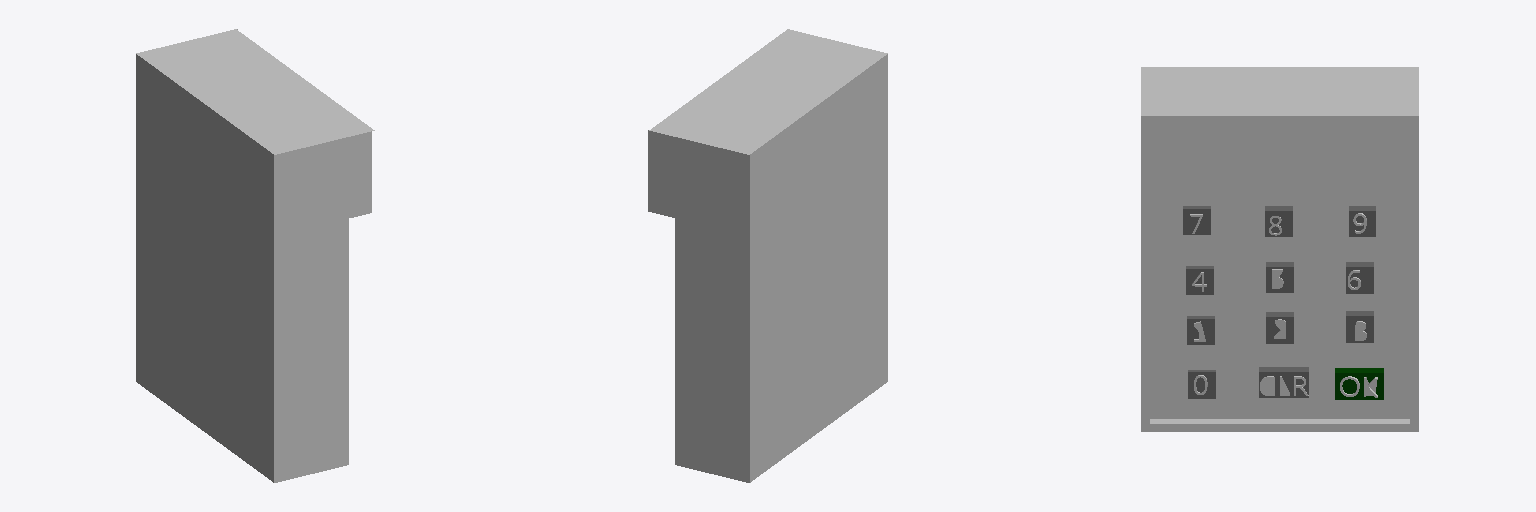
The model's file is gaming passcode.obj.
3 views of the same model, side by side, from view 1: azimuth 30°, elevation 25°; view 2: azimuth 150°, elevation 25°; view 3: azimuth 270°, elevation 25° (orthographic).
Parts seen in each view (by area): view 1: game_passcode_box; view 2: game_passcode_box; view 3: game_passcode_box.
Part boxes in pixels (bbox=[...]): game_passcode_box: bbox=[136, 29, 374, 482]; game_passcode_box: bbox=[648, 29, 887, 482]; game_passcode_box: bbox=[1141, 67, 1418, 431].
Bounding box in the file's own units: 12.79 × 39.43 × 30.2.